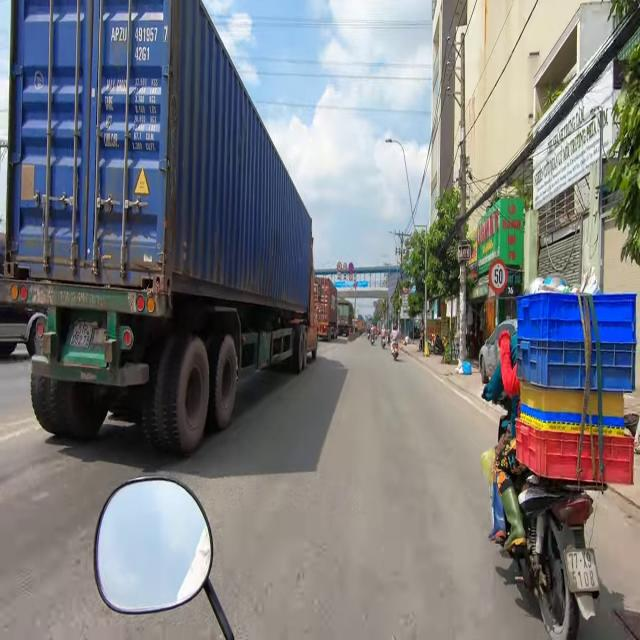bien_trang: (563, 545, 601, 595), (69, 316, 95, 348)
